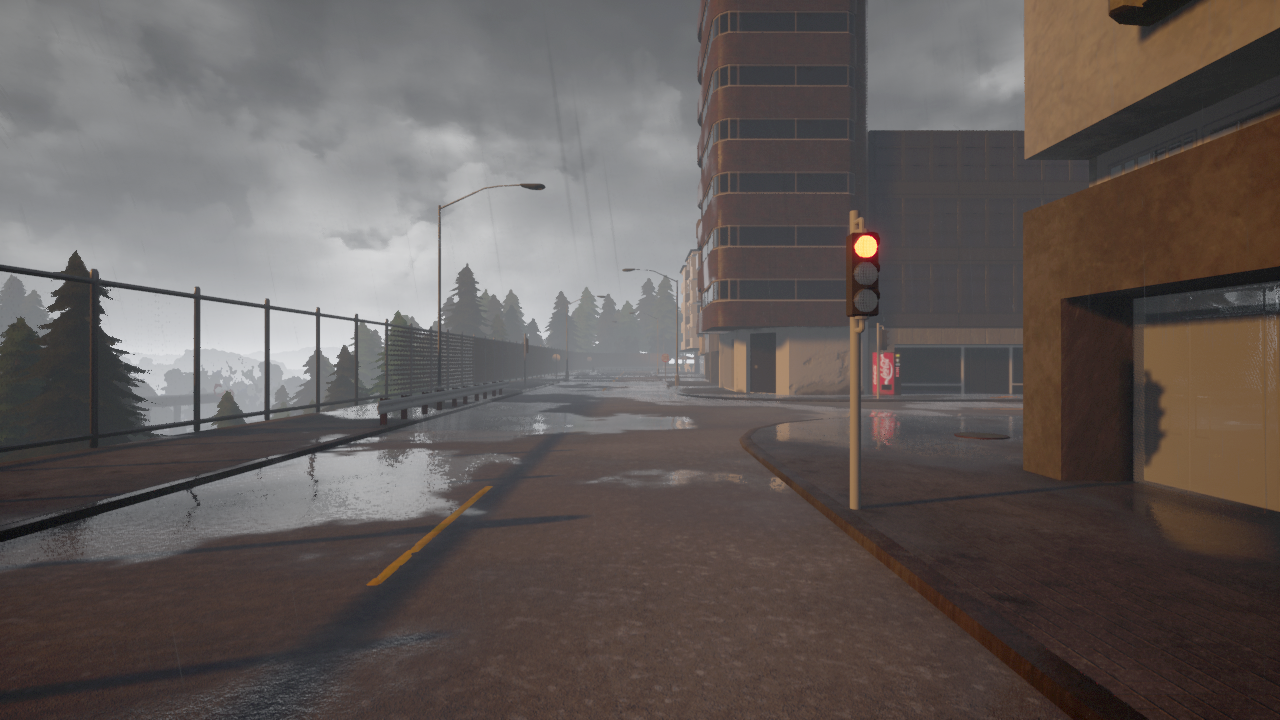red: (845, 231, 883, 322)
